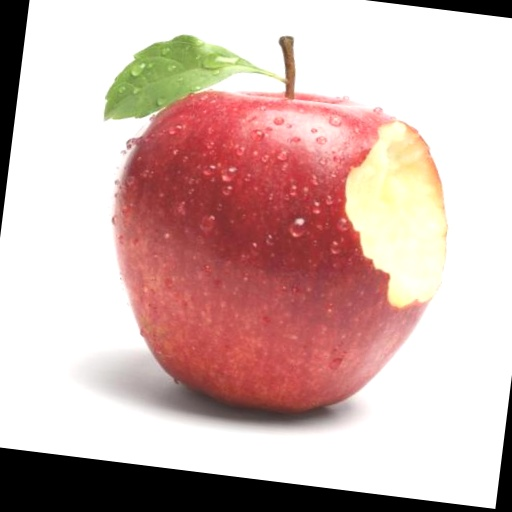fruit: (110, 91, 446, 412)
